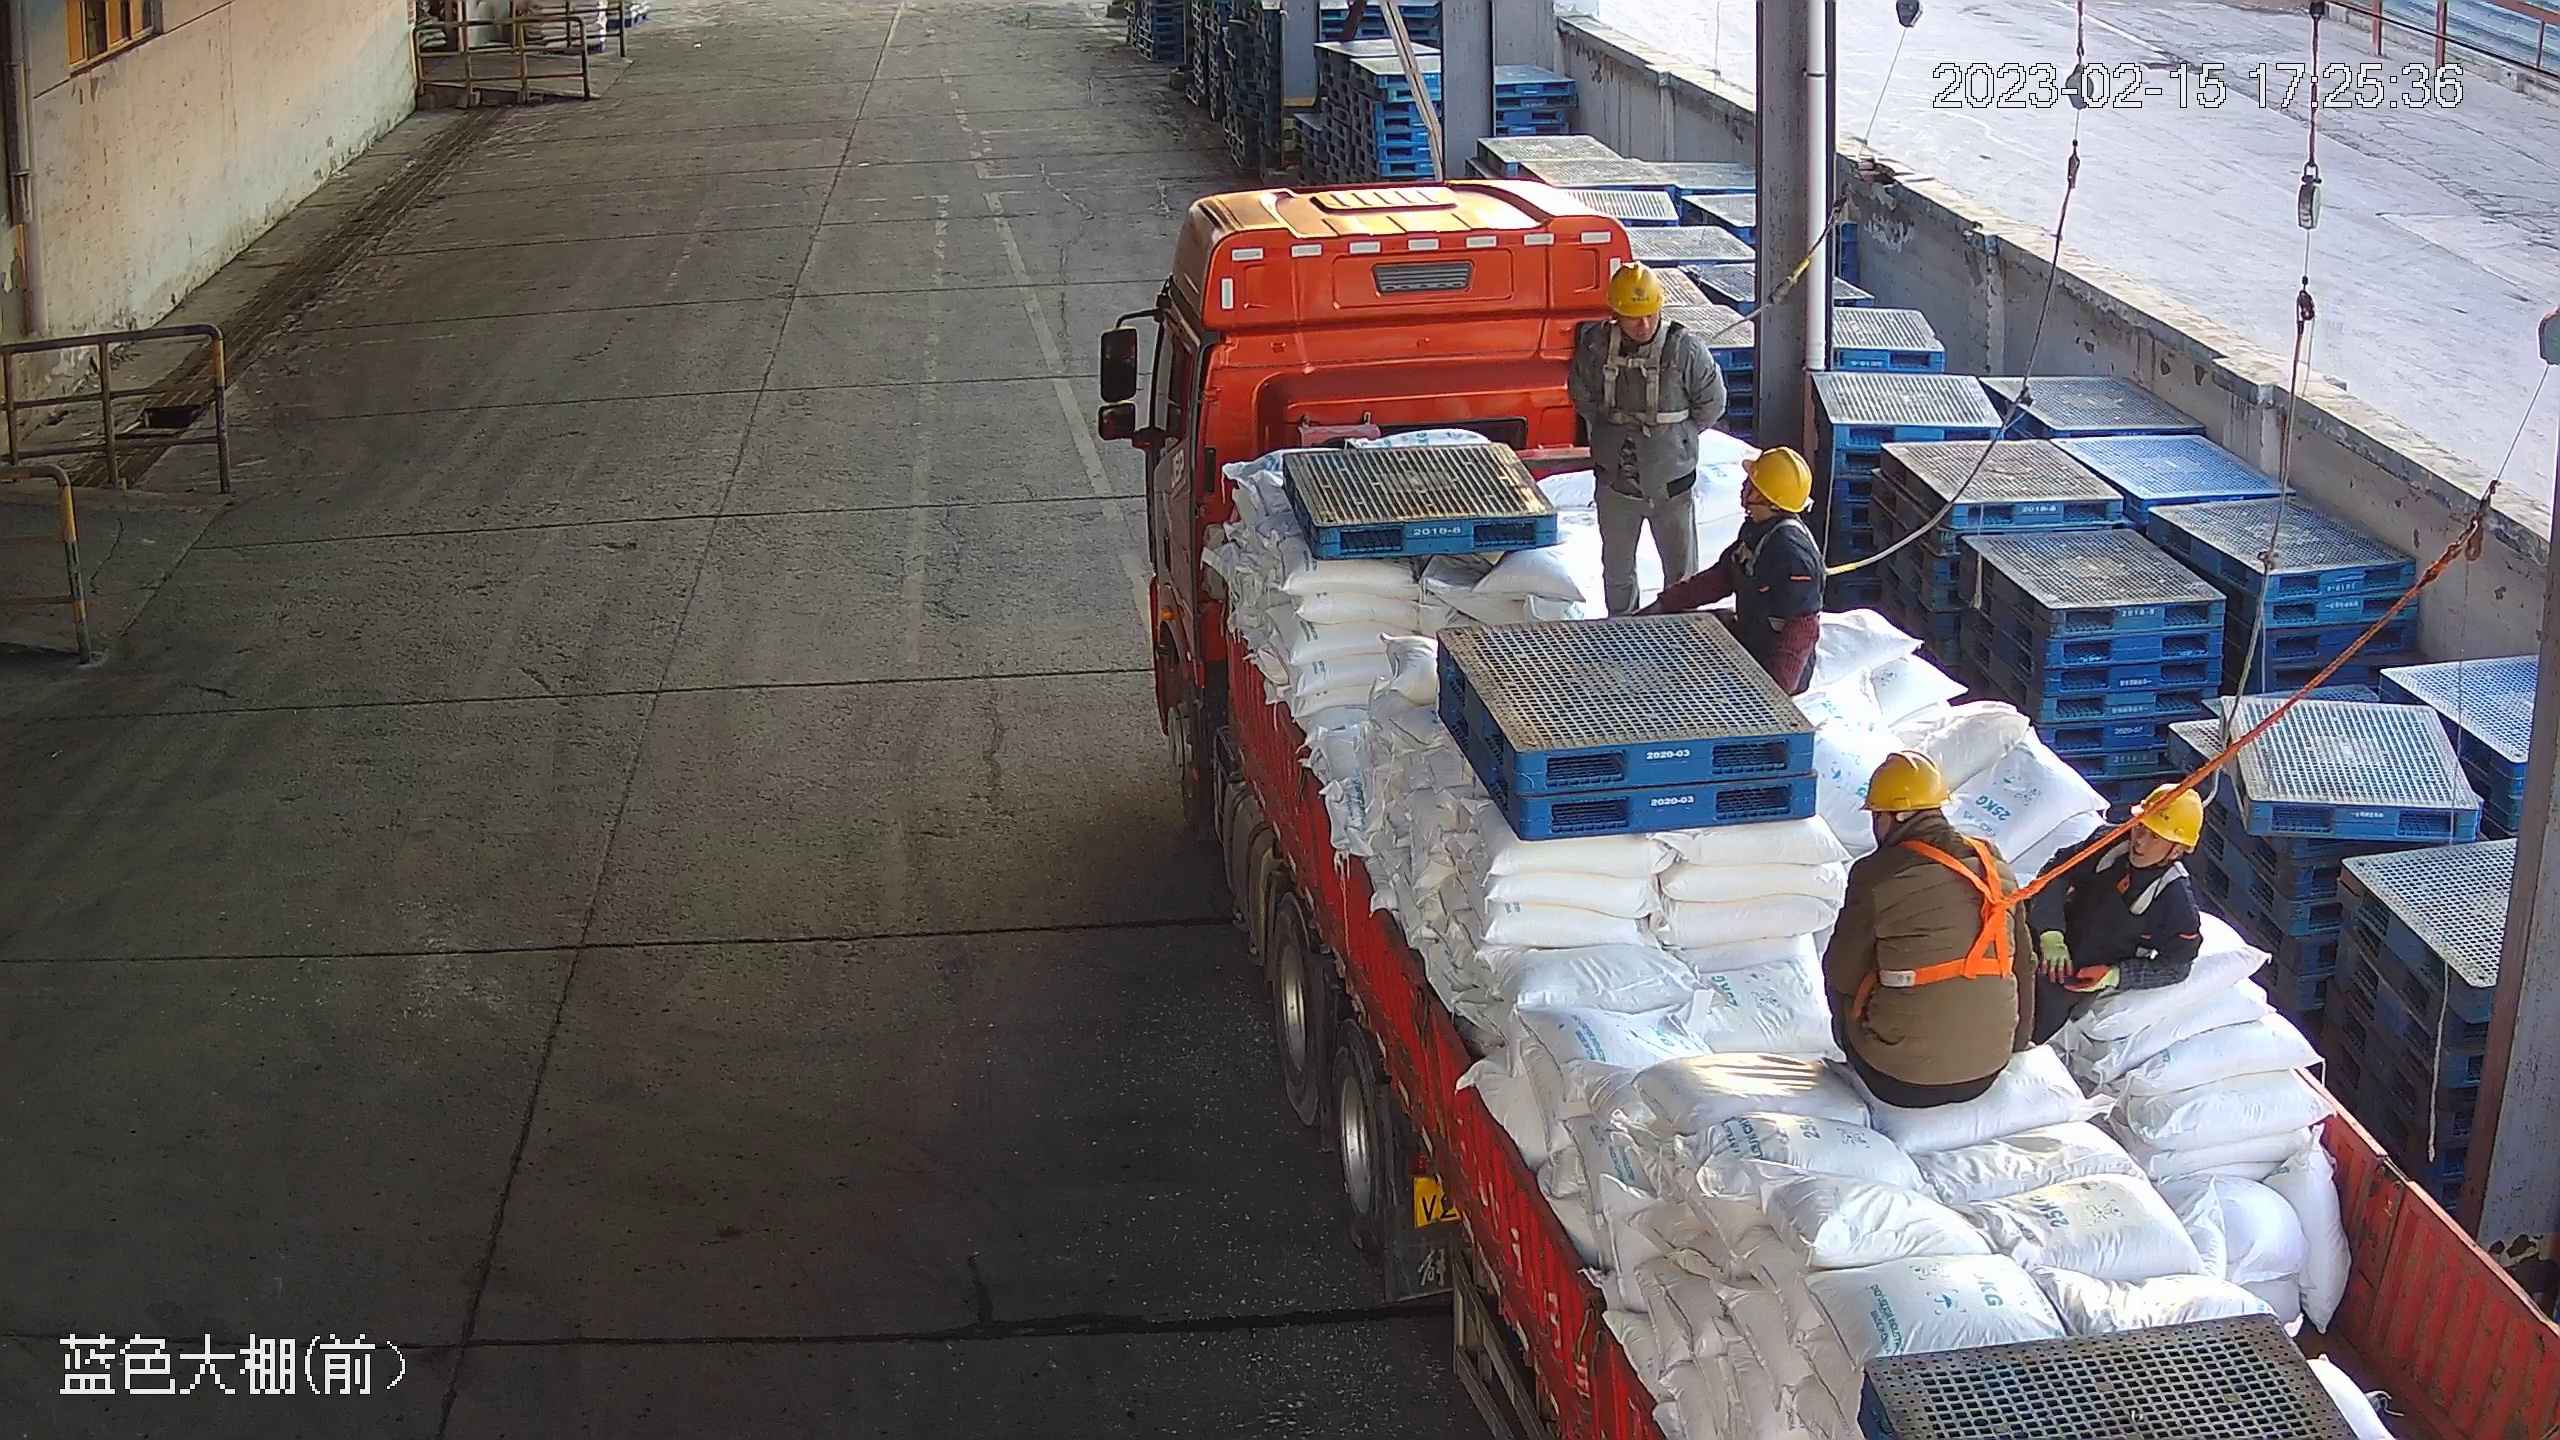belt: (1855, 837, 2030, 1019), (1595, 319, 1691, 427), (2094, 838, 2190, 915), (1731, 519, 1839, 579)
head: (1848, 750, 2018, 920), (2084, 784, 2206, 917), (1576, 260, 1707, 376), (1736, 446, 1826, 575)
helmet: (1859, 749, 1948, 811), (2128, 783, 2204, 848), (1742, 446, 1811, 512), (1609, 261, 1664, 317)
people: (1821, 748, 2039, 1109), (1566, 260, 1728, 619), (1633, 446, 1827, 699), (2031, 784, 2206, 1045)
truck: (1097, 178, 2560, 1440)
